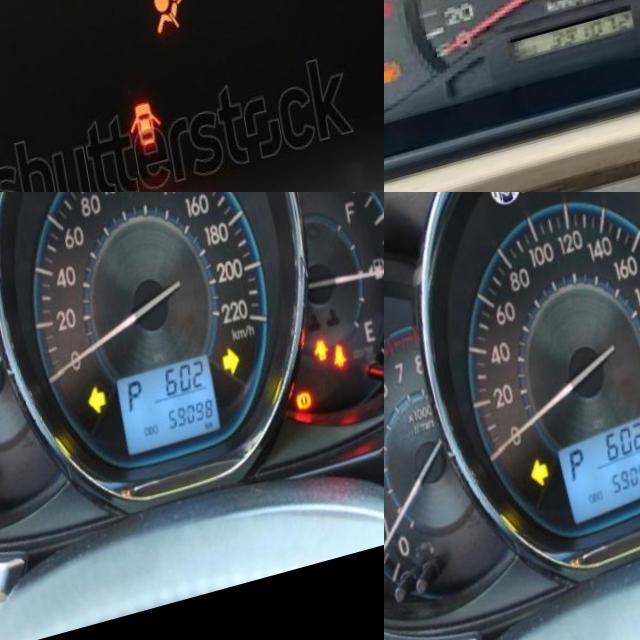Seat Belt: (315, 370, 331, 395)
